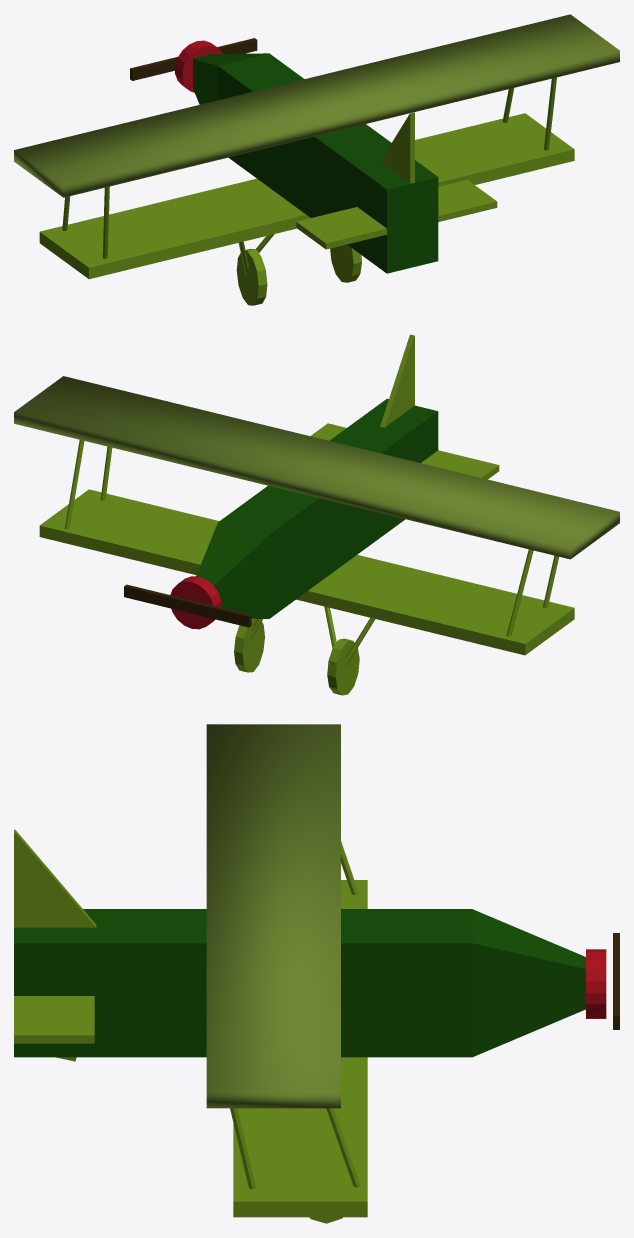
The model's file is tarihiuçak.fbx.
3 views of the same model, one above another, from view 1: azimuth 30°, elevation 25°; view 2: azimuth 150°, elevation 25°; view 3: azimuth 270°, elevation 25° (orthographic). The views are drawn at different scales.
Parts seen in each view (by area): view 1: Nu_D36.007, Nu_D36.008, Nu_D36.006, Nu_D36.004, Nu_D36.010, Nu_D36.011, Cube.006, Nu_D36.002, Nu_D36.012, Nu_D36, Nu_D36.005; view 2: Nu_D36.007, Nu_D36.008, Nu_D36.006, Cube.006, Nu_D36.010, Nu_D36.004, Nu_D36.002, Nu_D36.011, Nu_D36.012, Nu_D36.009, Nu_D36.016; view 3: Nu_D36.006, Nu_D36.007, Nu_D36.008, Nu_D36.010, Nu_D36.004, Nu_D36.002, Cube.006.
Part boxes in pixels (bbox=[...]): Nu_D36.007: bbox=[14, 14, 619, 197]; Nu_D36.008: bbox=[39, 113, 574, 279]; Nu_D36.006: bbox=[193, 53, 438, 273]; Nu_D36.004: bbox=[296, 180, 497, 249]; Nu_D36.010: bbox=[380, 112, 414, 183]; Nu_D36.011: bbox=[236, 249, 267, 305]; Cube.006: bbox=[130, 38, 257, 80]; Nu_D36.002: bbox=[175, 40, 223, 92]; Nu_D36.012: bbox=[330, 244, 361, 282]; Nu_D36: bbox=[544, 77, 556, 150]; Nu_D36.005: bbox=[102, 186, 109, 258]; Nu_D36.007: bbox=[14, 376, 619, 559]; Nu_D36.008: bbox=[39, 489, 574, 655]; Nu_D36.006: bbox=[196, 398, 438, 618]; Cube.006: bbox=[124, 584, 251, 627]; Nu_D36.010: bbox=[380, 334, 414, 427]; Nu_D36.004: bbox=[310, 423, 499, 479]; Nu_D36.002: bbox=[170, 576, 221, 629]; Nu_D36.011: bbox=[327, 638, 359, 695]; Nu_D36.012: bbox=[234, 618, 264, 672]; Nu_D36.009: bbox=[506, 549, 533, 636]; Nu_D36.016: bbox=[64, 440, 84, 529]; Nu_D36.006: bbox=[14, 909, 585, 1057]; Nu_D36.007: bbox=[206, 724, 340, 1108]; Nu_D36.008: bbox=[233, 880, 367, 1217]; Nu_D36.010: bbox=[14, 829, 96, 927]; Nu_D36.004: bbox=[14, 996, 94, 1043]; Nu_D36.002: bbox=[586, 949, 606, 1018]; Cube.006: bbox=[613, 933, 619, 1029].
Size of the model in its own units: 686 by 310 by 477.
